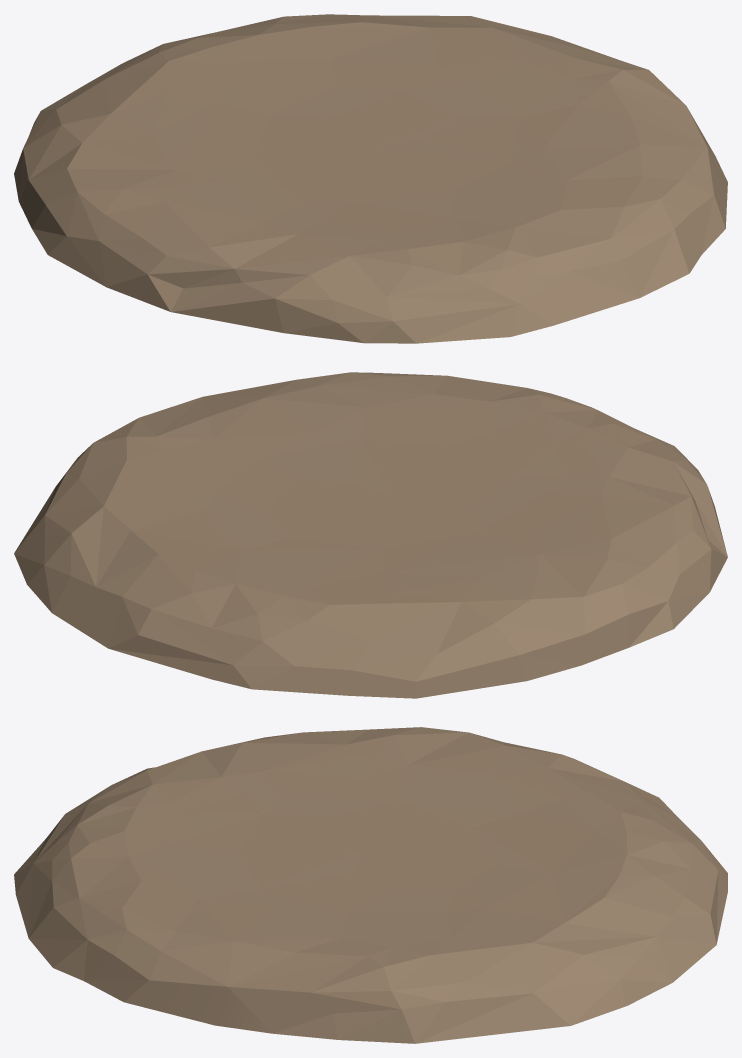
File: SM_Env_Ground_Hill_Flat_02.glb
3 renders of one model, top to bottom at view 1: azimuth 30°, elevation 25°; view 2: azimuth 150°, elevation 25°; view 3: azimuth 270°, elevation 25°, orthographic. The views are drawn at different scales.
Parts seen in each view (by area): view 1: SM_Env_Ground_Hill_Flat_02; view 2: SM_Env_Ground_Hill_Flat_02; view 3: SM_Env_Ground_Hill_Flat_02.
Part boxes in pixels (left/top/right/bottom): SM_Env_Ground_Hill_Flat_02: left=14, top=14, right=727, bottom=343; SM_Env_Ground_Hill_Flat_02: left=14, top=372, right=727, bottom=698; SM_Env_Ground_Hill_Flat_02: left=14, top=727, right=727, bottom=1043.
Size of the model in its own units: 13.26 by 1.07 by 13.65.
Materials: 1 (1 with a texture image).
